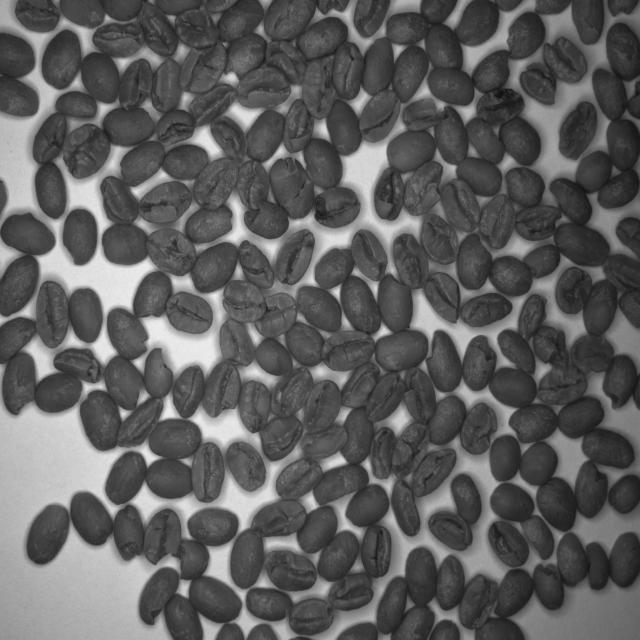bad: (268, 156, 316, 220), (60, 121, 112, 180), (424, 327, 464, 395), (178, 40, 227, 95), (136, 179, 192, 227), (105, 303, 150, 362), (145, 226, 197, 277), (190, 156, 239, 210), (556, 100, 598, 162), (0, 211, 56, 257), (409, 444, 457, 497), (273, 227, 316, 286), (0, 349, 37, 417), (115, 396, 164, 447), (137, 566, 180, 624), (536, 361, 590, 407), (546, 175, 594, 226), (296, 283, 344, 334), (36, 278, 70, 350), (390, 420, 430, 481), (102, 354, 144, 412), (321, 328, 376, 372), (270, 365, 314, 420), (263, 549, 319, 592), (164, 290, 213, 339), (542, 34, 590, 84), (249, 499, 309, 539), (235, 66, 292, 108), (440, 178, 482, 235), (376, 271, 414, 334), (143, 506, 182, 567), (119, 139, 166, 189), (301, 55, 337, 120), (358, 88, 401, 142), (416, 213, 459, 267), (402, 157, 442, 215), (600, 350, 638, 411), (191, 439, 225, 507), (274, 456, 324, 502), (487, 517, 531, 569), (460, 332, 498, 392), (203, 358, 241, 418), (62, 205, 98, 268), (131, 268, 173, 322), (225, 439, 266, 494), (312, 184, 363, 228), (491, 566, 534, 618), (350, 226, 389, 283), (263, 0, 317, 41), (303, 136, 344, 190), (506, 402, 560, 443), (221, 33, 267, 81), (99, 173, 139, 228), (365, 371, 405, 426), (459, 401, 499, 456), (260, 413, 304, 463), (433, 105, 469, 166), (139, 2, 178, 58), (479, 192, 516, 251), (423, 269, 461, 326), (454, 0, 501, 46), (457, 231, 493, 291), (459, 289, 513, 329), (222, 276, 266, 325), (392, 232, 429, 290), (573, 459, 608, 520), (303, 378, 341, 434), (53, 345, 106, 385), (264, 38, 308, 86), (254, 291, 298, 339), (185, 201, 234, 244), (459, 574, 498, 628), (188, 83, 238, 125), (464, 116, 506, 166), (32, 109, 68, 166), (332, 40, 364, 104), (172, 360, 206, 420), (591, 67, 628, 122), (401, 366, 436, 424), (209, 114, 248, 166), (428, 509, 474, 553), (327, 571, 375, 613), (497, 328, 538, 377), (117, 54, 152, 111), (428, 394, 467, 445), (313, 244, 356, 290), (288, 595, 336, 636), (506, 11, 546, 60), (554, 265, 593, 315), (340, 362, 379, 412), (570, 332, 614, 376), (237, 237, 274, 289), (300, 422, 348, 462), (531, 324, 570, 373), (150, 56, 182, 115), (362, 521, 394, 580), (112, 502, 144, 561), (282, 98, 315, 155), (93, 22, 145, 58), (513, 202, 562, 240), (391, 478, 421, 540), (372, 164, 404, 222), (218, 318, 255, 368), (503, 165, 546, 208), (470, 49, 511, 94), (235, 159, 270, 211), (238, 379, 271, 434), (170, 536, 211, 580), (174, 8, 219, 48), (519, 60, 558, 106), (475, 89, 526, 124), (242, 201, 290, 238), (600, 250, 640, 294), (142, 346, 174, 400), (517, 292, 549, 345), (13, 0, 61, 35), (533, 562, 566, 612), (401, 98, 446, 134), (153, 108, 194, 147), (582, 540, 613, 591), (369, 425, 396, 481), (522, 242, 561, 279), (354, 0, 390, 38), (615, 215, 640, 259), (617, 288, 640, 330)
good: (25, 498, 71, 570), (339, 273, 382, 339), (77, 388, 121, 452), (187, 575, 244, 624), (0, 252, 40, 320), (553, 222, 612, 268), (190, 240, 240, 292), (40, 27, 81, 89), (70, 488, 113, 547), (580, 426, 635, 472), (312, 463, 369, 505), (314, 528, 360, 580), (296, 15, 349, 60), (148, 417, 202, 461), (373, 328, 428, 371), (390, 44, 430, 103), (582, 277, 620, 339), (536, 478, 578, 534), (105, 450, 148, 504), (556, 392, 605, 439), (498, 116, 543, 167), (143, 454, 195, 498), (325, 98, 363, 158), (244, 108, 286, 162), (488, 365, 538, 410), (606, 528, 640, 594), (359, 35, 395, 97), (229, 529, 265, 591), (385, 128, 438, 170), (66, 287, 104, 345), (337, 407, 375, 465), (604, 21, 640, 82), (344, 484, 391, 530), (80, 50, 120, 104), (186, 507, 240, 547), (403, 545, 437, 608), (297, 503, 339, 554), (102, 106, 155, 146), (455, 154, 503, 198), (100, 222, 148, 266), (424, 23, 464, 75), (375, 574, 408, 637), (426, 66, 475, 108), (556, 530, 590, 590), (488, 253, 534, 297), (216, 0, 264, 42), (34, 159, 67, 220), (164, 591, 205, 640), (244, 584, 294, 624), (0, 314, 37, 367), (605, 116, 640, 172), (34, 374, 84, 413), (489, 482, 535, 524), (518, 440, 558, 488), (434, 552, 466, 612), (160, 141, 209, 180), (286, 321, 326, 368), (0, 31, 37, 81), (574, 147, 614, 192), (595, 168, 640, 208), (390, 600, 435, 640), (449, 472, 482, 526), (253, 334, 294, 377), (0, 74, 39, 118), (489, 431, 522, 483), (569, 0, 605, 47), (520, 513, 555, 560), (608, 470, 640, 519), (386, 10, 429, 46), (58, 0, 105, 31), (54, 88, 99, 120), (474, 614, 529, 640), (419, 0, 459, 24), (428, 616, 462, 640)
